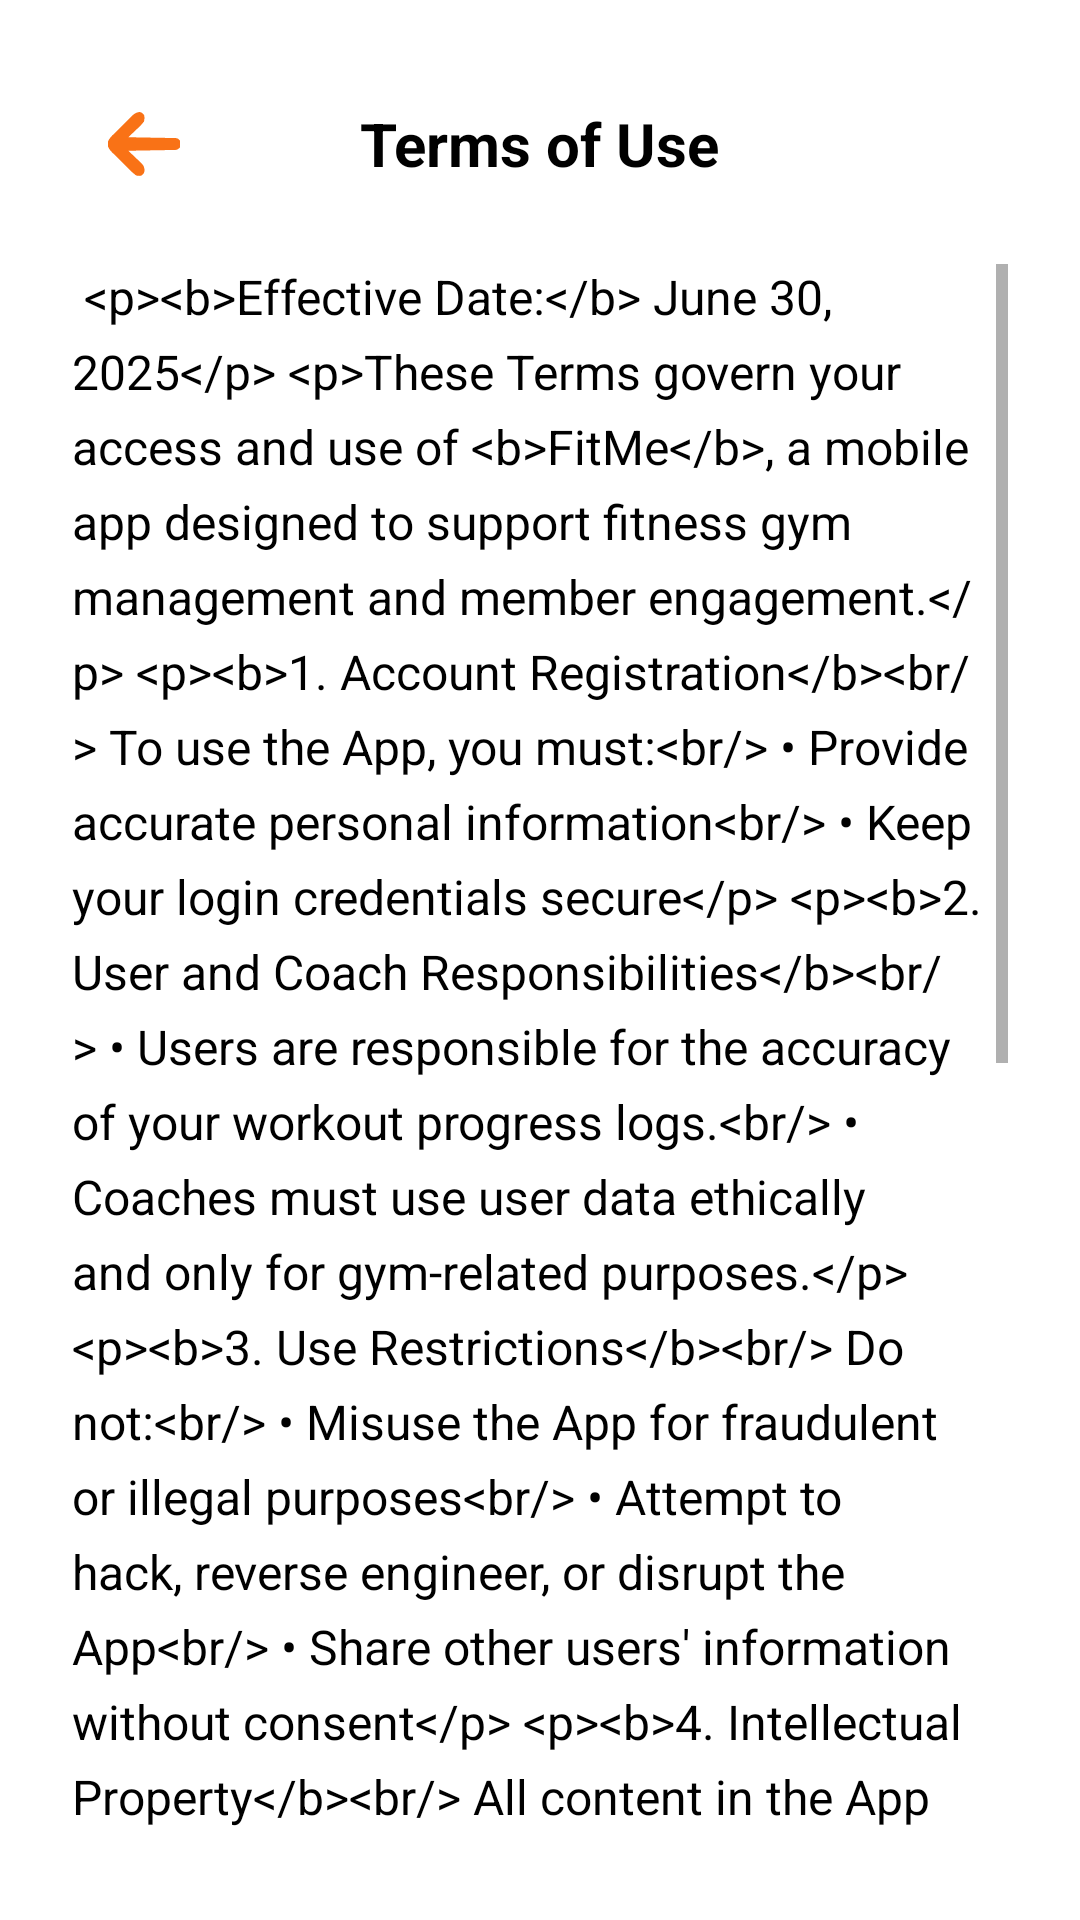

Icons on this 1080px×1920px Android screen, each with the point to tap as (x=x, y=y):
Back: (x=144, y=144)
